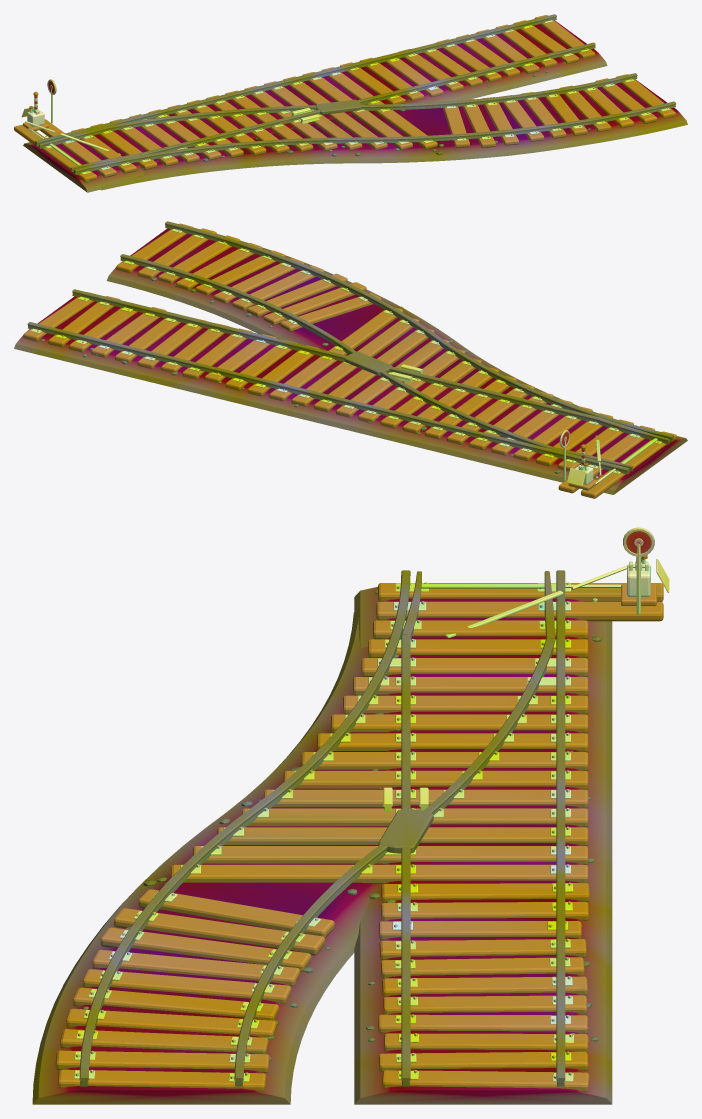
Rendered from Track_Switch_20m_A.fbx.
3 views of the same model, one above another, from view 1: azimuth 30°, elevation 25°; view 2: azimuth 150°, elevation 25°; view 3: azimuth 270°, elevation 25° (orthographic). The views are drawn at different scales.
Parts seen in each view (by area): view 1: Track_Switch_20m_A, Blade_D, Broken_Bits; view 2: Track_Switch_20m_A, Blade_S; view 3: Track_Switch_20m_A, Broken_Bits, Switch_Target.
Part boxes in pixels (bbox=[...]): Track_Switch_20m_A: bbox=[14, 14, 687, 192]; Blade_D: bbox=[38, 126, 108, 148]; Broken_Bits: bbox=[21, 105, 120, 154]; Track_Switch_20m_A: bbox=[14, 221, 687, 498]; Blade_S: bbox=[596, 417, 669, 444]; Track_Switch_20m_A: bbox=[32, 561, 663, 1104]; Broken_Bits: bbox=[445, 558, 669, 637]; Switch_Target: bbox=[623, 527, 654, 614].
Size of the model in its own units: 20 by 1.96 by 10.61.
